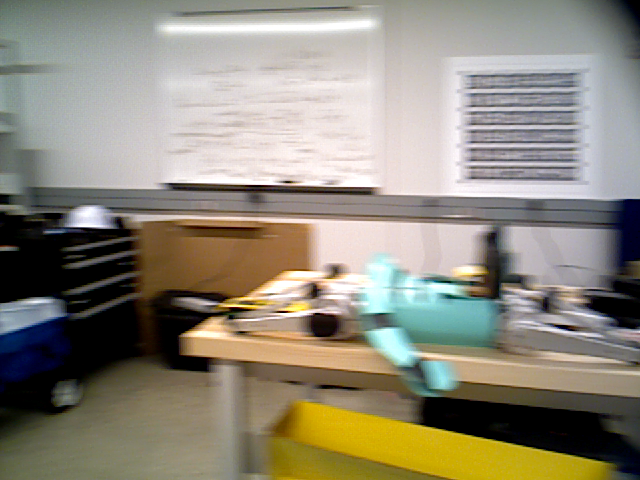painting4: (442, 54, 596, 196)
